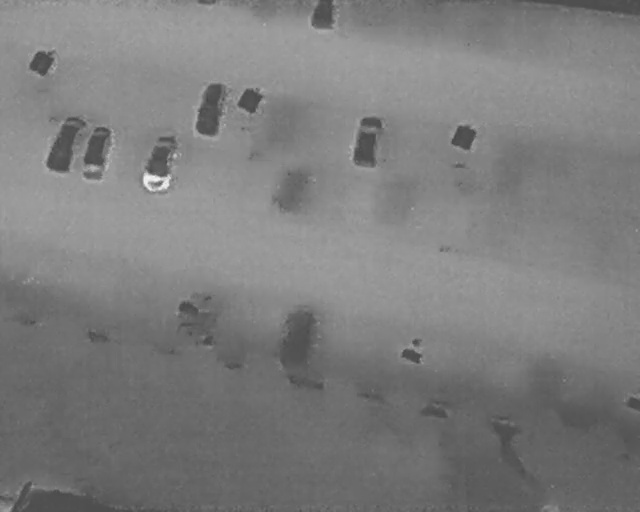Car: (44, 112, 87, 175), (140, 131, 181, 195), (192, 79, 228, 138), (349, 115, 386, 170), (79, 123, 114, 181), (309, 0, 338, 30)
